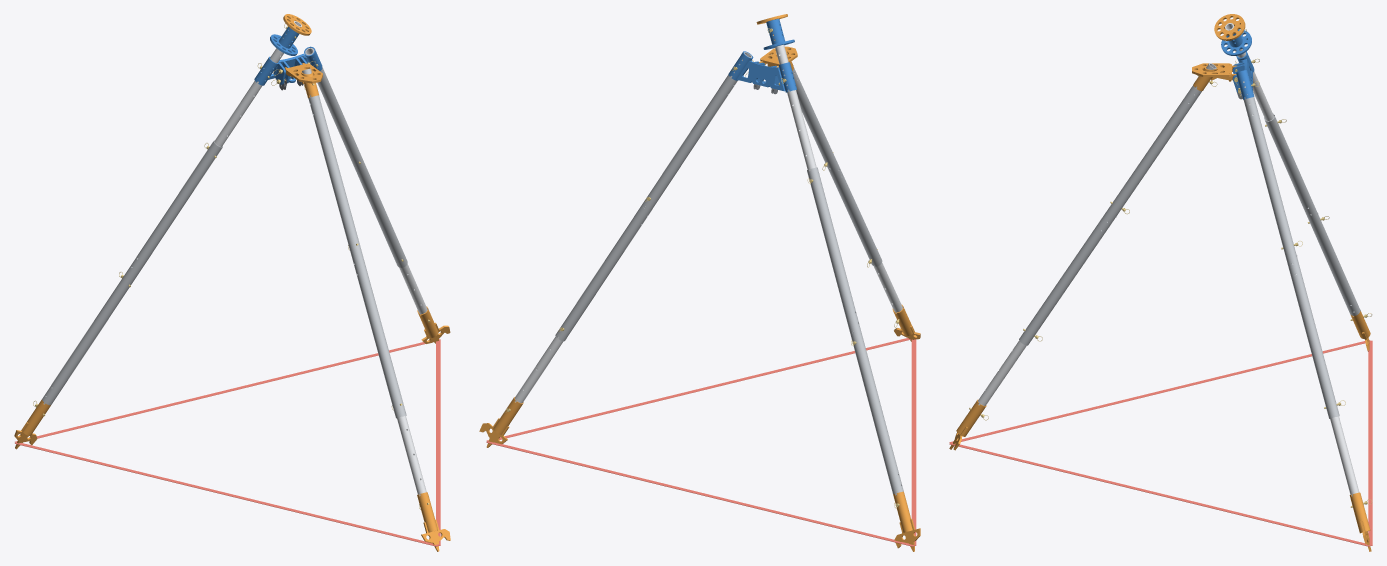
File: tripode_v10_tubo_arriba.glb
3 views of the same model, side by side, from view 1: azimuth 30°, elevation 25°; view 2: azimuth 150°, elevation 25°; view 3: azimuth 270°, elevation 25° (orthographic).
Visible parts, largest first — view 1: n41_10G1, n42_10G2, n26_10I1, n27_10I2, n54_M3, n34_10D2, n33_10D1, n52_M1, n53_M2, n25_13I1, n44_14G1, n43_13G1 (+3 smaller); view 2: n26_10I1, n27_10I2, n33_10D1, n34_10D2, n52_M1, n53_M2, n42_10G2, n54_M3, n41_10G1, n25_13I1, n00_01, n28_14I1 (+2 smaller); view 3: n33_10D1, n34_10D2, n41_10G1, n42_10G2, n53_M2, n54_M3, n26_10I1, n27_10I2, n52_M1, n35_13D1, n43_13G1, n50_15 (+4 smaller).
Boxes of the visible parts, bbox=[...] form: n41_10G1: bbox=[302, 68, 362, 258]; n42_10G2: bbox=[352, 255, 406, 418]; n26_10I1: bbox=[128, 140, 222, 276]; n27_10I2: bbox=[42, 270, 136, 405]; n54_M3: bbox=[15, 442, 437, 546]; n34_10D2: bbox=[355, 164, 407, 267]; n33_10D1: bbox=[305, 48, 364, 170]; n52_M1: bbox=[15, 342, 425, 443]; n53_M2: bbox=[436, 339, 440, 545]; n25_13I1: bbox=[214, 21, 301, 146]; n44_14G1: bbox=[417, 492, 450, 551]; n43_13G1: bbox=[397, 415, 426, 495]; n26_10I1: bbox=[807, 167, 860, 333]; n27_10I2: bbox=[850, 329, 903, 495]; n33_10D1: bbox=[642, 52, 751, 210]; n34_10D2: bbox=[555, 205, 650, 341]; n52_M1: bbox=[486, 441, 914, 546]; n53_M2: bbox=[486, 338, 910, 441]; n42_10G2: bbox=[828, 164, 882, 266]; n54_M3: bbox=[911, 339, 916, 545]; n41_10G1: bbox=[776, 53, 837, 169]; n25_13I1: bbox=[773, 34, 816, 170]; n00_01: bbox=[737, 60, 785, 91]; n28_14I1: bbox=[893, 491, 920, 551]; n33_10D1: bbox=[1243, 81, 1296, 259]; n34_10D2: bbox=[1286, 254, 1339, 418]; n41_10G1: bbox=[1106, 63, 1216, 218]; n42_10G2: bbox=[1019, 212, 1116, 345]; n53_M2: bbox=[949, 442, 1370, 546]; n54_M3: bbox=[949, 340, 1369, 443]; n26_10I1: bbox=[1264, 113, 1318, 218]; n27_10I2: bbox=[1307, 214, 1360, 316]; n52_M1: bbox=[1368, 340, 1372, 545]; n35_13D1: bbox=[1330, 416, 1359, 496]; n43_13G1: bbox=[978, 340, 1026, 405]; n50_15: bbox=[1214, 14, 1245, 40].
Size of the model in its own units: 2729 by 2591 by 2311.
